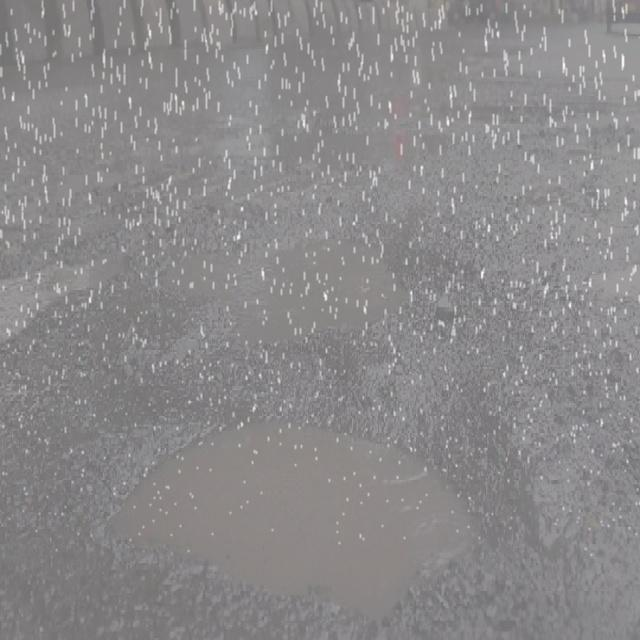Pothole: (51, 388, 541, 640), (221, 185, 437, 388), (48, 239, 137, 304)
